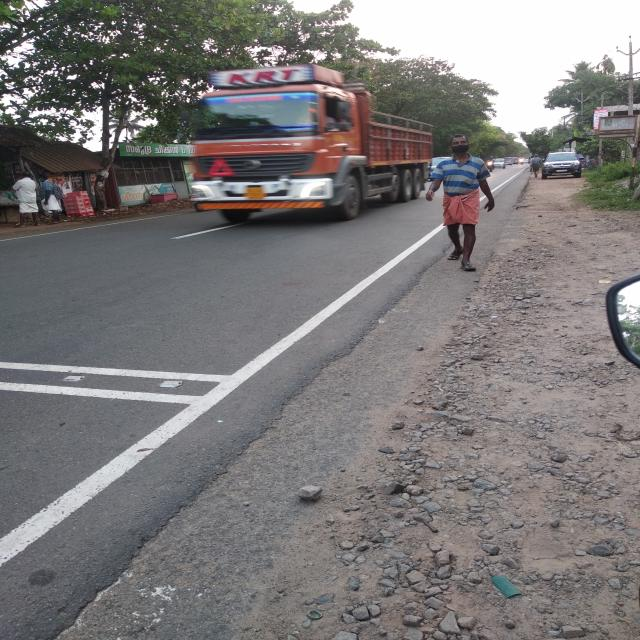Car: (541, 154, 580, 176)
Truck: (180, 66, 432, 212)
